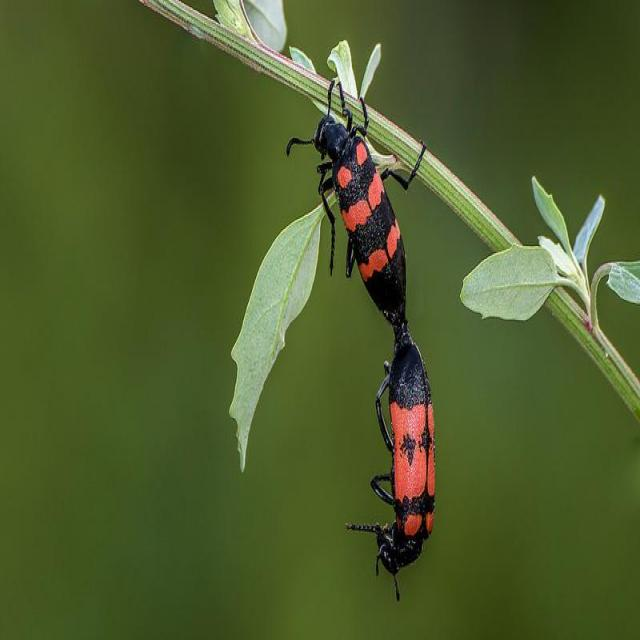BlisterBeetle-Adult-: (283, 67, 442, 329), (342, 322, 452, 607)
